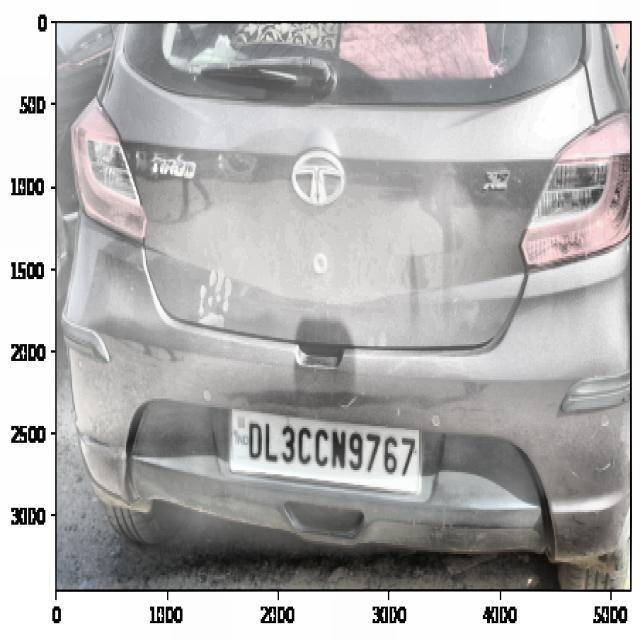license_plate: (243, 413, 418, 489)
